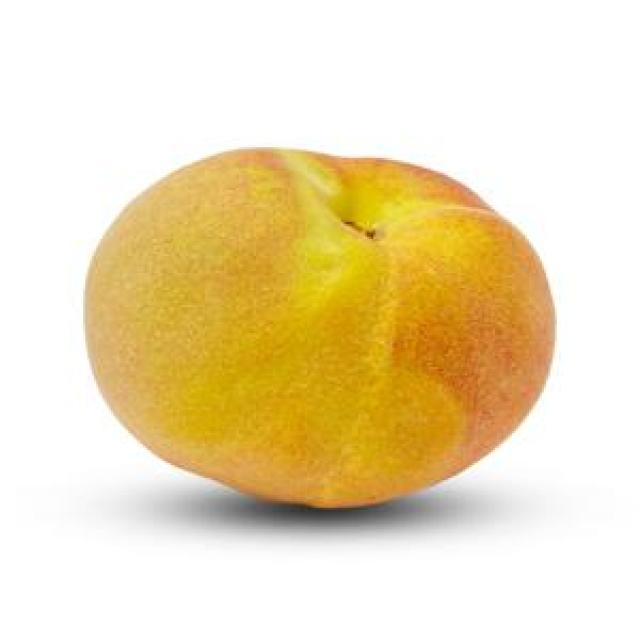peach: (86, 149, 554, 507)
